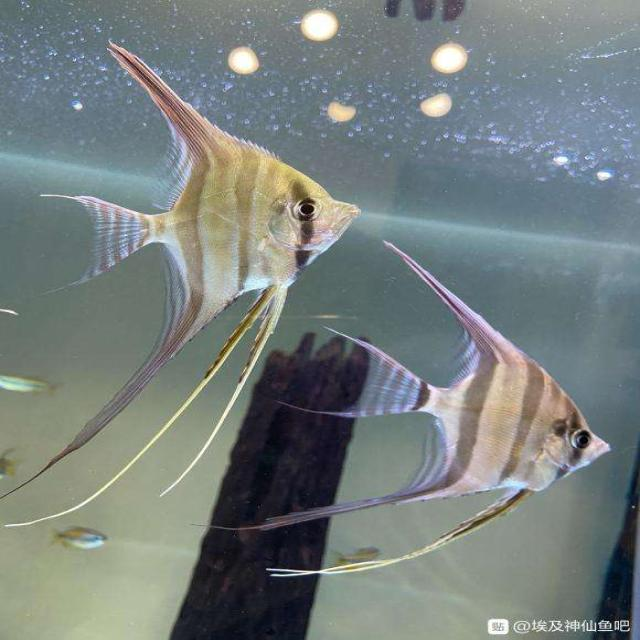AngelFish: (33, 31, 368, 502), (343, 239, 612, 597)
